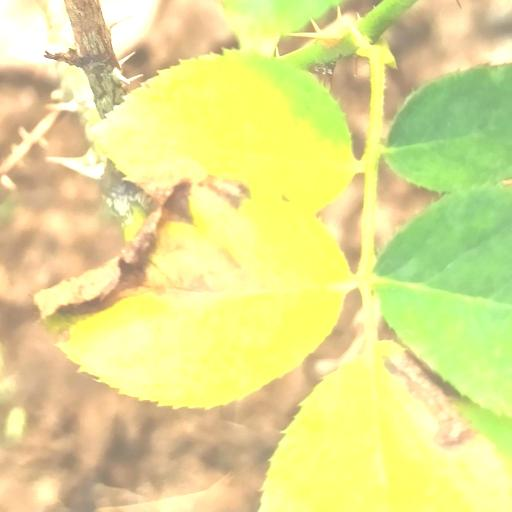thrip: (62, 188, 348, 408), (94, 50, 355, 214), (259, 344, 512, 512)
